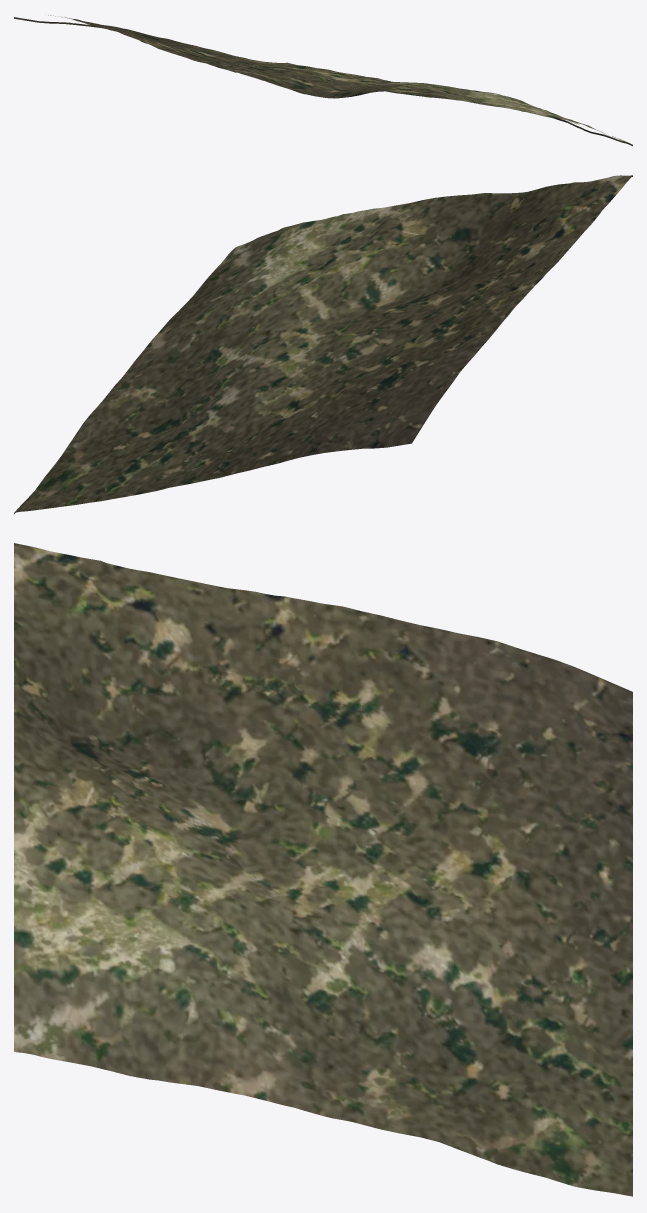
3 renders of one model, top to bottom at view 1: azimuth 30°, elevation 25°; view 2: azimuth 150°, elevation 25°; view 3: azimuth 270°, elevation 25°, orthographic. The views are drawn at different scales.
Bounding box in the file's own units: 250 × 165 × 241.
Materials: 1 (1 with a texture image).
